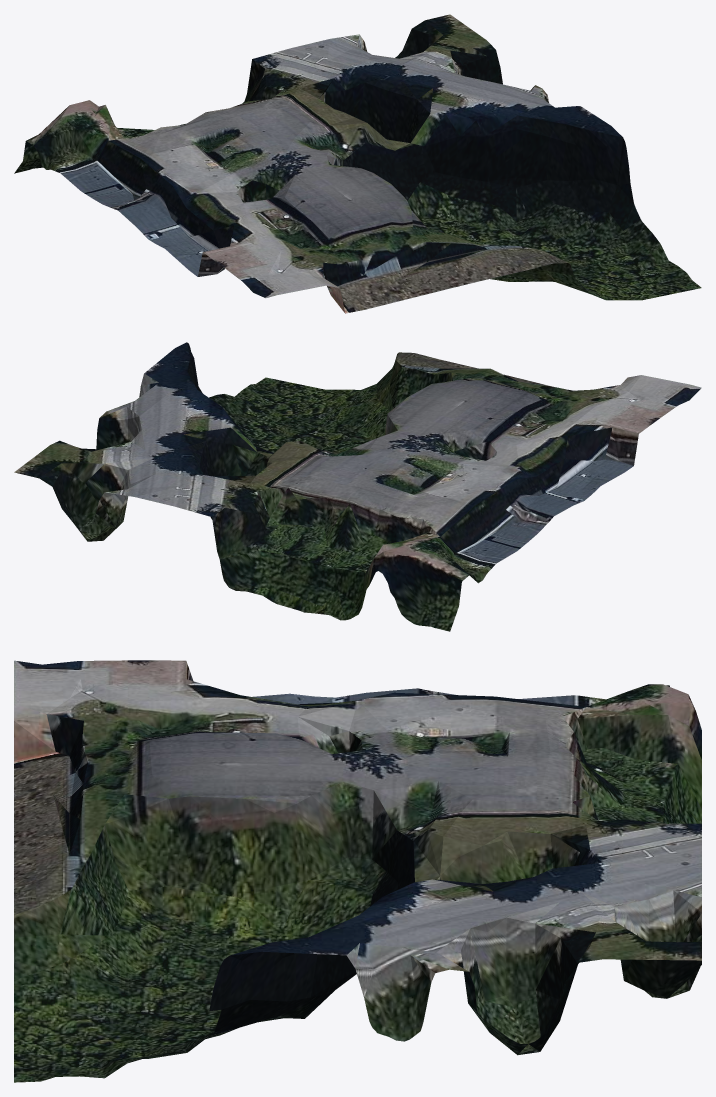
File: map_15_8180_13791.dae
The picture shows the model from 3 angles, top to bottom: view 1: azimuth 30°, elevation 25°; view 2: azimuth 150°, elevation 25°; view 3: azimuth 270°, elevation 25°; orthographic projection. The views are drawn at different scales.
Parts seen in each view (by area): view 1: Ter0; view 2: Ter0; view 3: Ter0.
Boxes of the visible parts, <box> form: Ter0: <box>14,14,701,313</box>; Ter0: <box>14,342,701,631</box>; Ter0: <box>14,660,701,1082</box>.
Bounding box in the file's own units: 63.88 × 63.88 × 13.9.
Materials: 3 (3 with a texture image).
